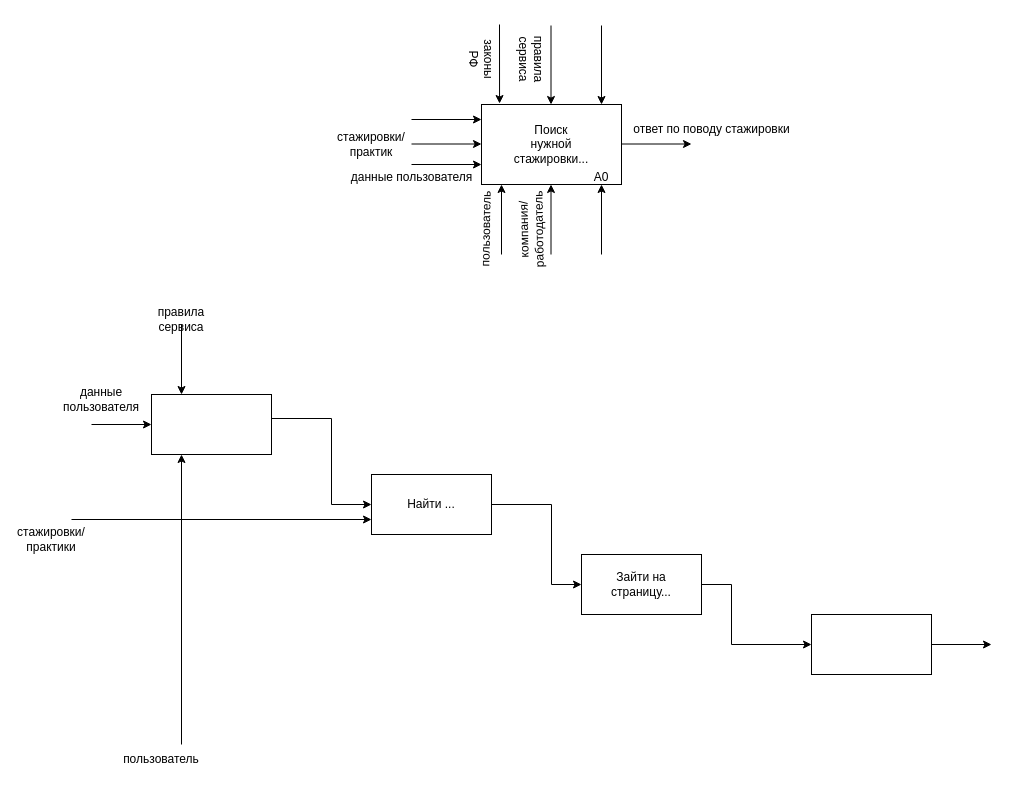
Image size: 1017x792. Some labels were removed from this diagram. Here are the shapes that lost their labels. From the top down, the centre of each, then its label:
At pixel 211 424: "Авторизация".
At pixel 871 644: "Написать работодателю".
